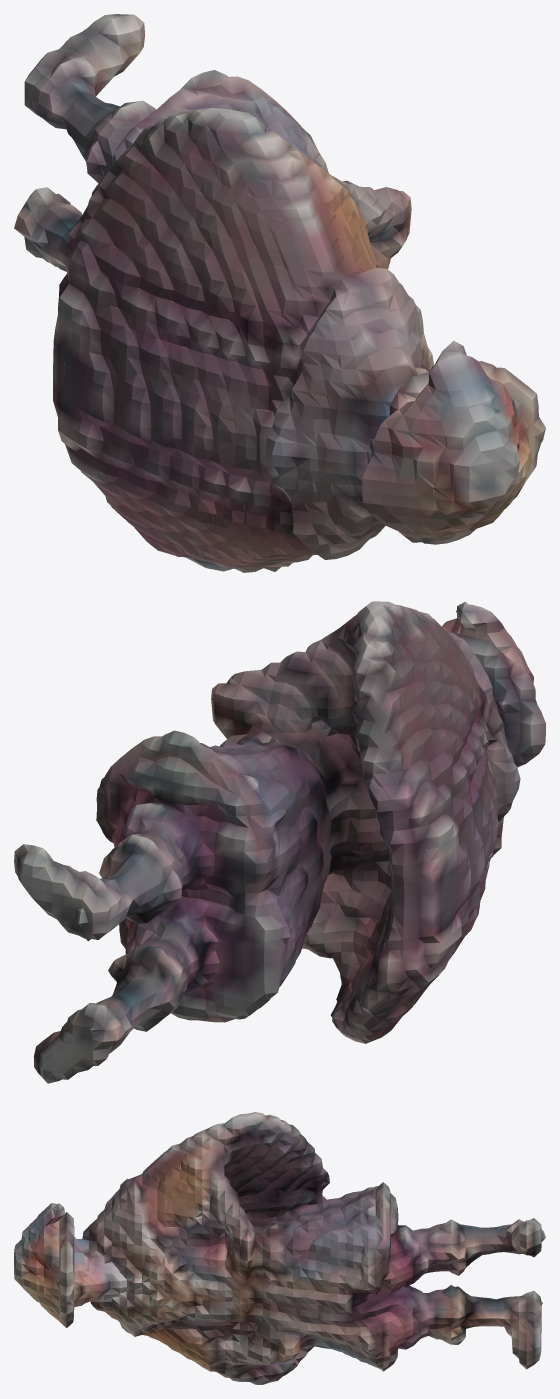
The model's file is renais_scholar_m_0.glb.
3 views of the same model, one above another, from view 1: azimuth 30°, elevation 25°; view 2: azimuth 150°, elevation 25°; view 3: azimuth 270°, elevation 25° (orthographic). The views are drawn at different scales.
Visible parts, largest first — view 1: world; view 2: world; view 3: world.
Boxes of the visible parts, <box> form: world: <box>14,14,545,572</box>; world: <box>14,601,545,1083</box>; world: <box>14,1112,545,1384</box>.
Size of the model in its own units: 0.3958 by 0.5332 by 0.9669.
